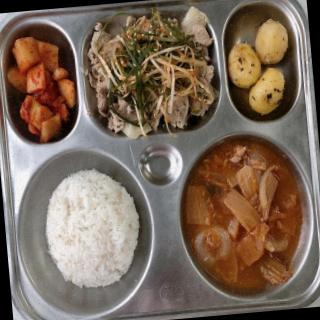Nasi: (43, 168, 146, 292)
